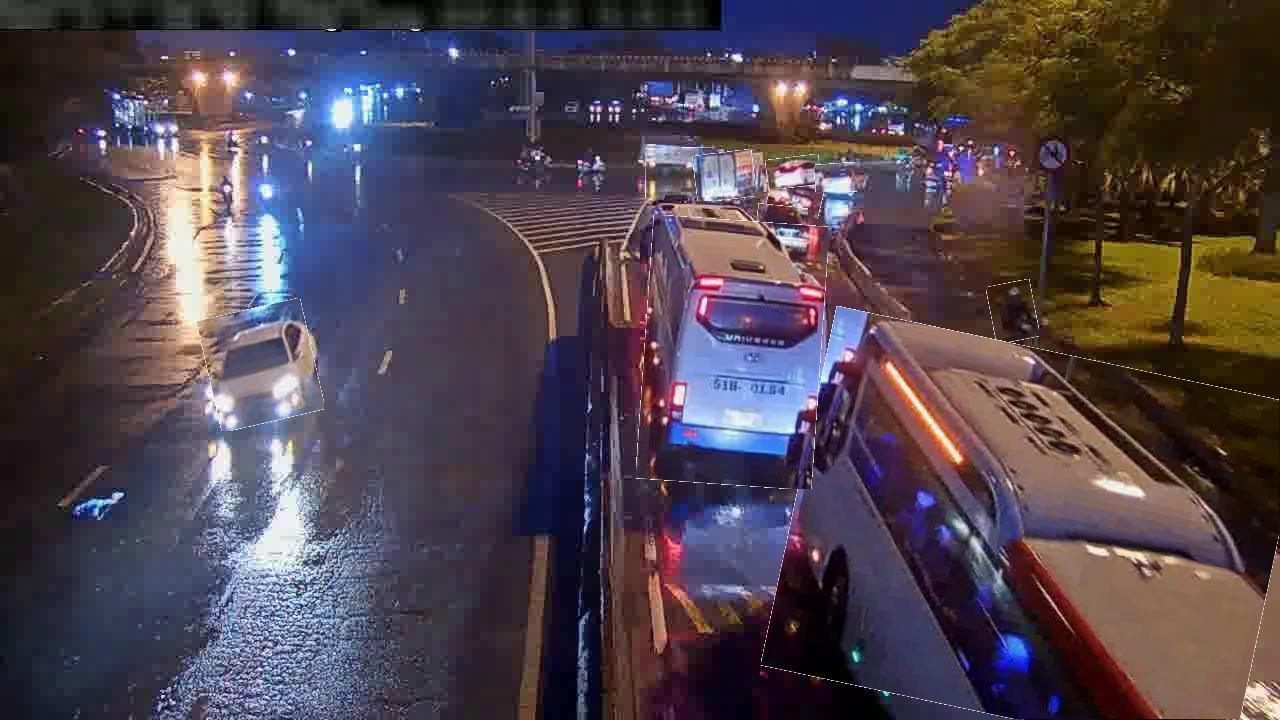14: (777, 329, 1279, 719), (641, 218, 825, 488)
8: (645, 148, 716, 199), (694, 151, 755, 201)
container: (202, 303, 320, 427), (755, 205, 808, 258), (767, 175, 824, 218), (766, 156, 821, 189), (815, 163, 858, 193)
motorbike: (988, 281, 1038, 343)
